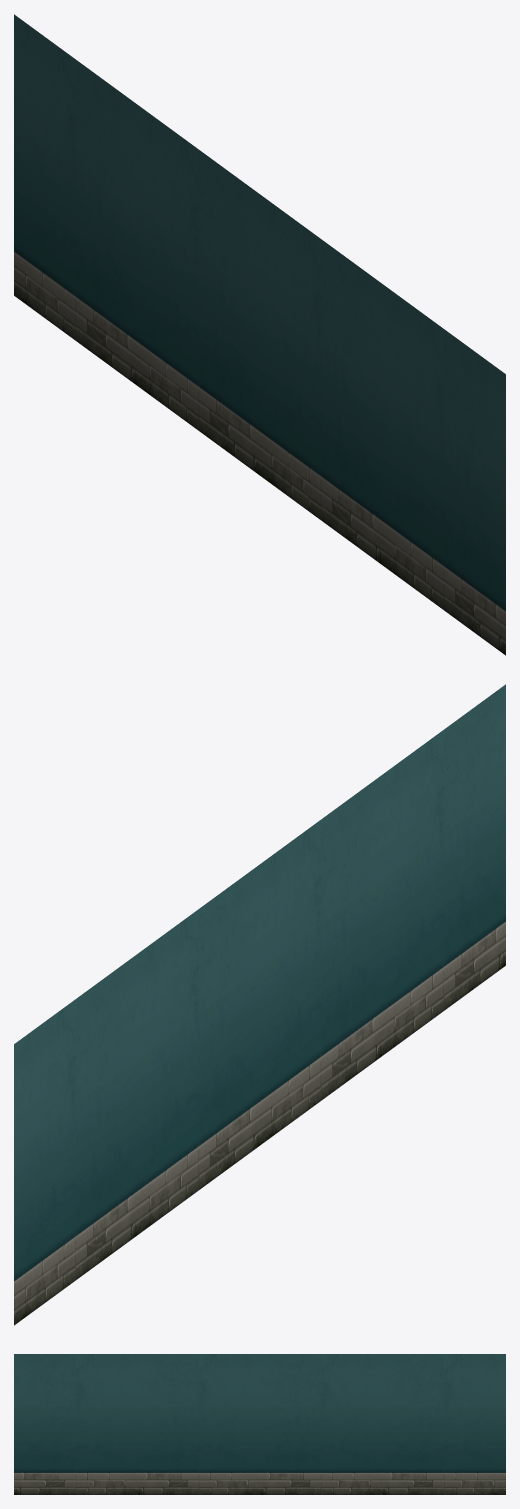
File: K1_bizhi1.FBX
3 views of the same model, one above another, from view 1: azimuth 30°, elevation 25°; view 2: azimuth 150°, elevation 25°; view 3: azimuth 270°, elevation 25° (orthographic). The views are drawn at different scales.
Visible parts, largest first — view 1: YHT_bizhi1; view 2: YHT_bizhi1; view 3: YHT_bizhi1.
Boxes of the visible parts, <box> form: YHT_bizhi1: <box>14,14,505,655</box>; YHT_bizhi1: <box>14,684,505,1325</box>; YHT_bizhi1: <box>14,1354,505,1494</box>.
Size of the model in its own units: 5.9e-06 by 2.85 by 9.02.
